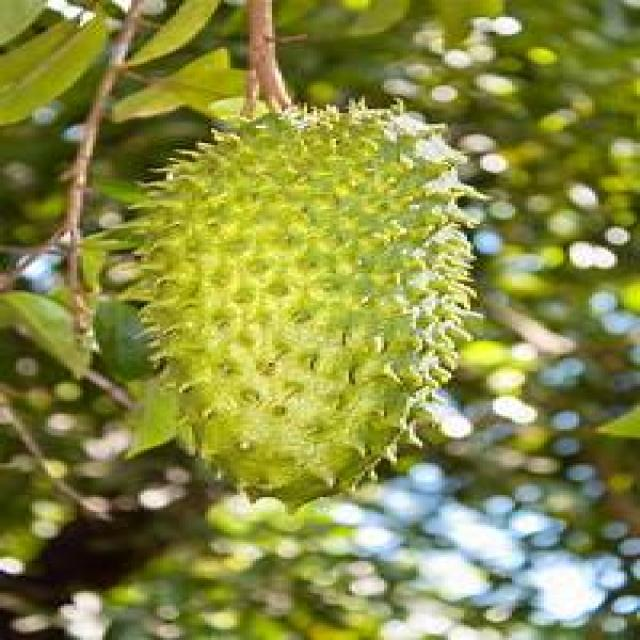immature: (109, 96, 477, 509)
